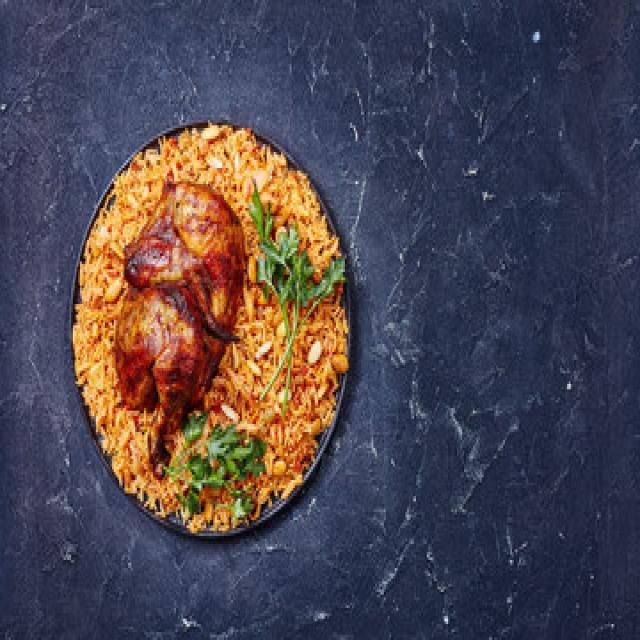BIRIYANI: (71, 125, 347, 528)
